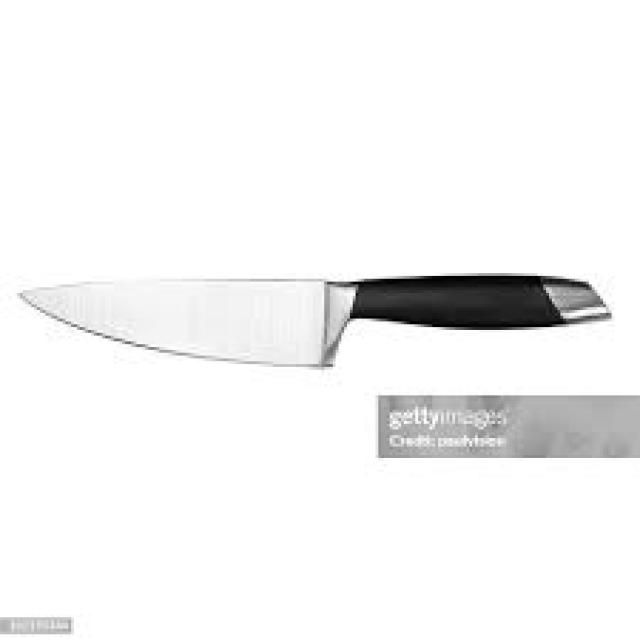Knife: (17, 270, 612, 367)
